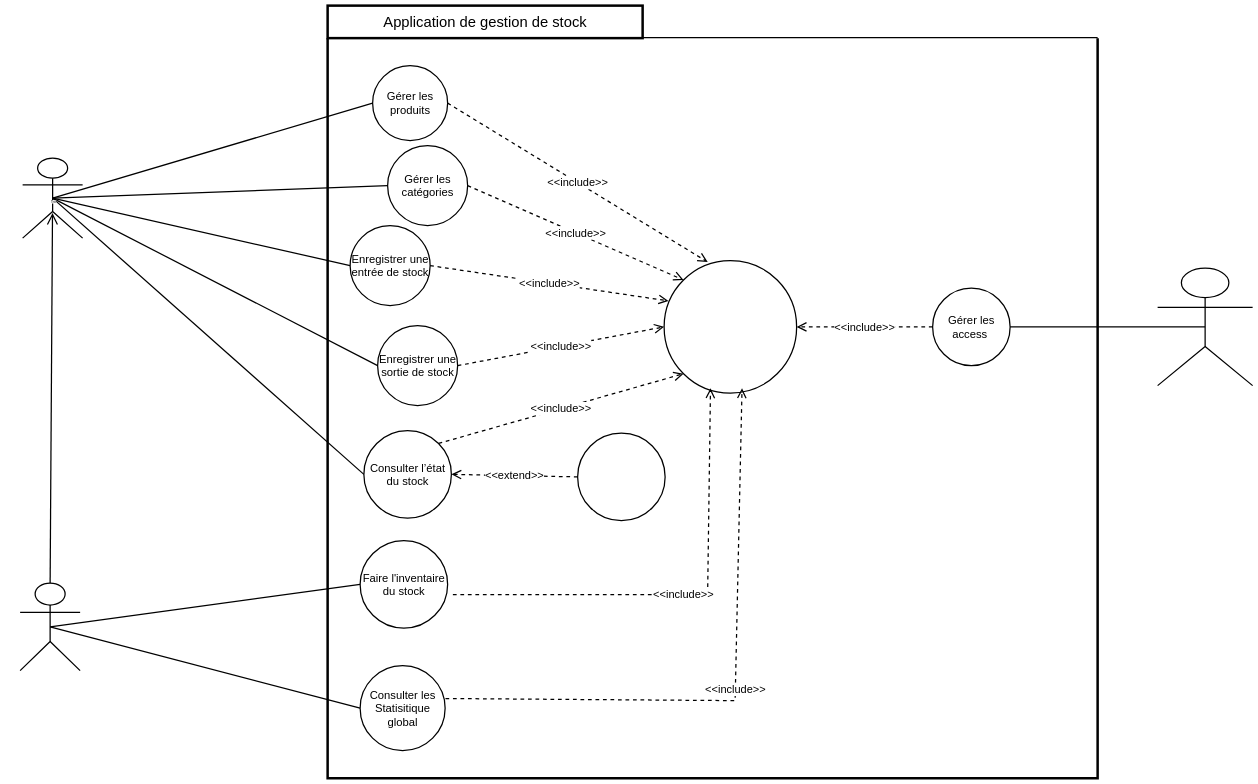
Some shapes in this 1258 by 784 pixel diagram are drawn without their labels. The centre of each missing label's shape, as x and y in pixels:
"Administrateur" belongs at (x=1205, y=326).
"Alerter sur un stock faible" belongs at (x=621, y=476).
"Gestionnaire de stock." belongs at (x=52, y=198).
"Propriétaire" belongs at (x=50, y=626).
"S'authentifier" belongs at (x=730, y=327).
